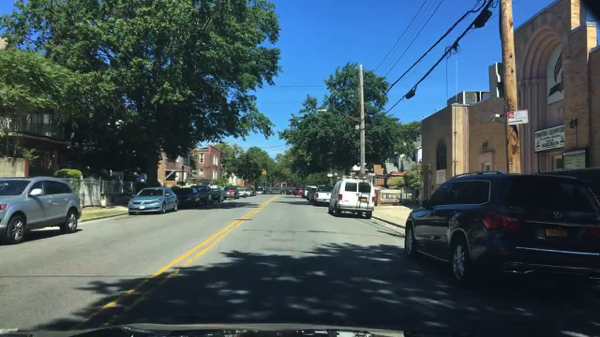car: (404, 172, 598, 290), (0, 177, 82, 246), (328, 180, 375, 217), (128, 188, 178, 214), (170, 187, 201, 208), (190, 185, 214, 206), (313, 185, 334, 205), (222, 185, 240, 199), (209, 188, 225, 203), (302, 185, 316, 198), (306, 187, 317, 203), (242, 188, 254, 198), (235, 189, 246, 198), (294, 187, 303, 197), (253, 188, 263, 195), (285, 189, 294, 196)
person: (228, 187, 233, 200), (140, 178, 146, 186)
traffic sign: (507, 110, 528, 125), (261, 170, 267, 174)
